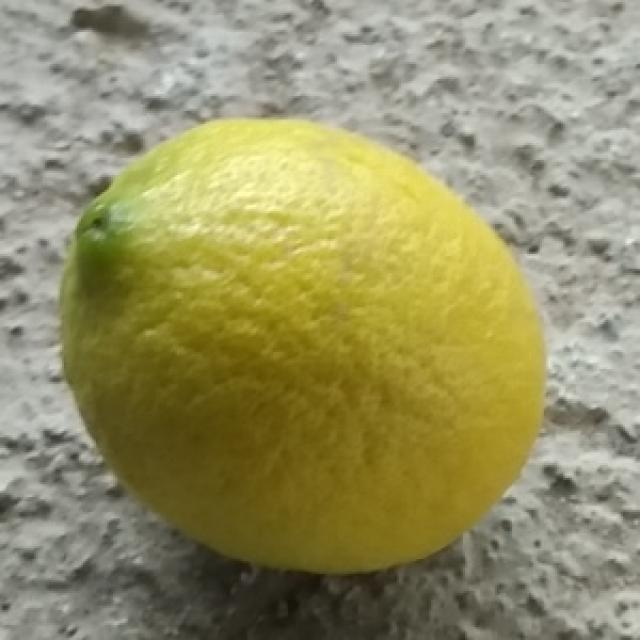Ripe: (55, 112, 549, 576)
